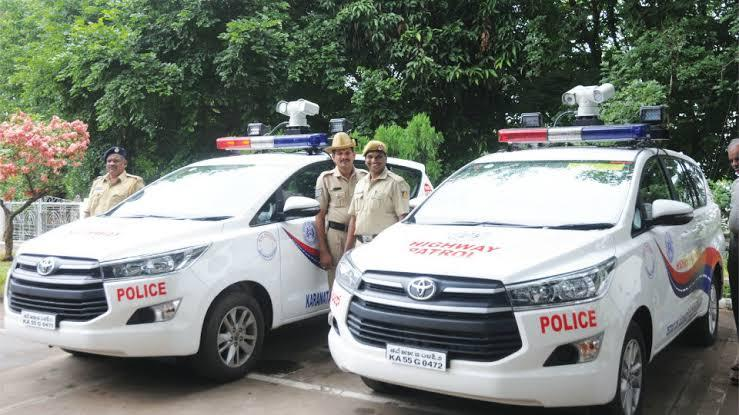Emergency-Vehicles: (356, 108, 704, 410), (0, 127, 330, 356)
